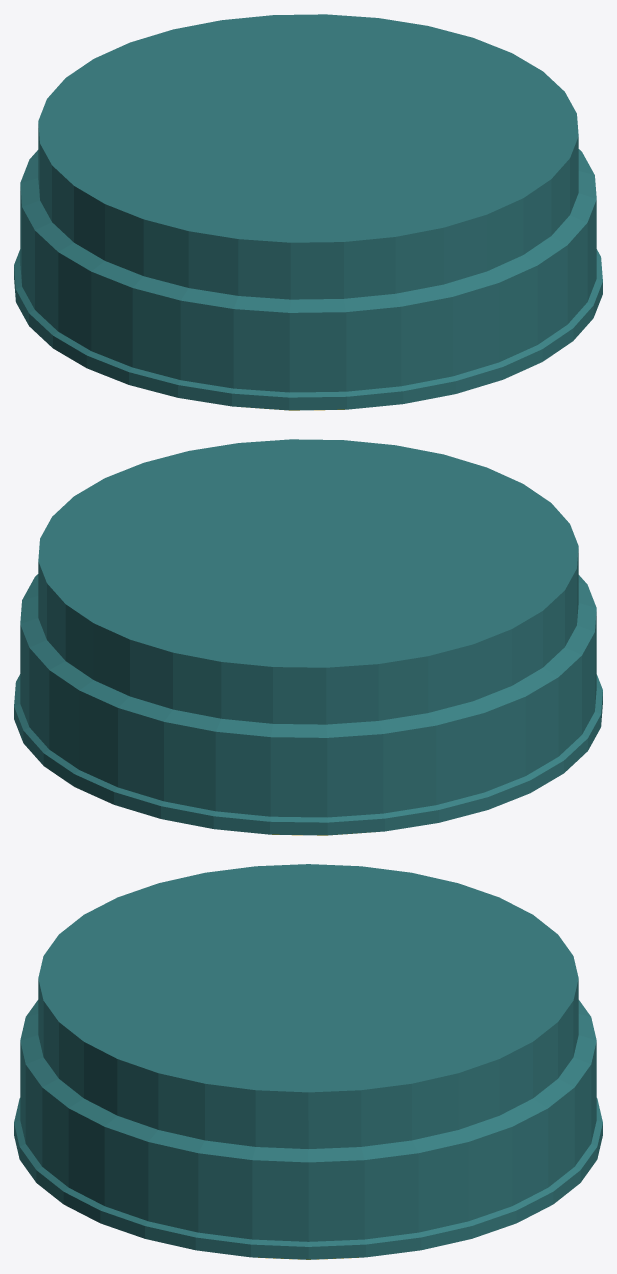
Rendered from ceiling_fixture.fbx.
The picture shows the model from 3 angles, top to bottom: view 1: azimuth 30°, elevation 25°; view 2: azimuth 150°, elevation 25°; view 3: azimuth 270°, elevation 25°; orthographic projection.
Visible parts, largest first — view 1: Cylinder; view 2: Cylinder; view 3: Cylinder.
Boxes of the visible parts, box(x1,y1,x2,y2) form: Cylinder: box(14, 14, 602, 410); Cylinder: box(14, 439, 602, 835); Cylinder: box(14, 864, 602, 1259).
Bounding box in the file's own units: 218 × 72.75 × 218.
